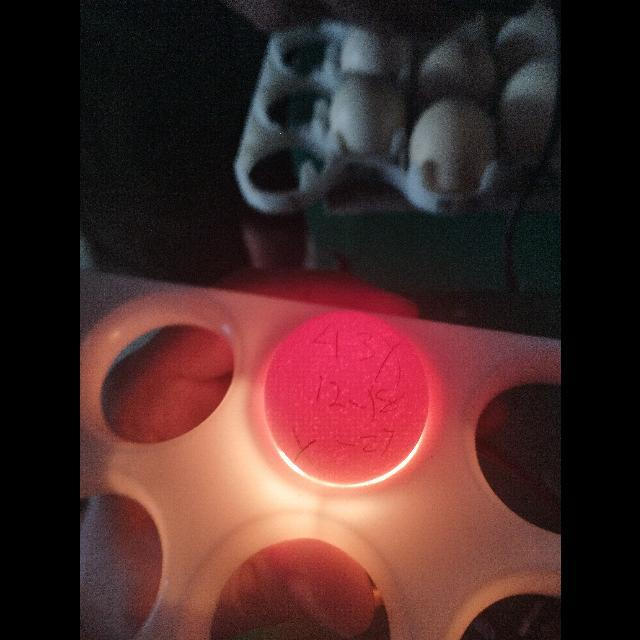Infertile: (261, 308, 434, 488)
